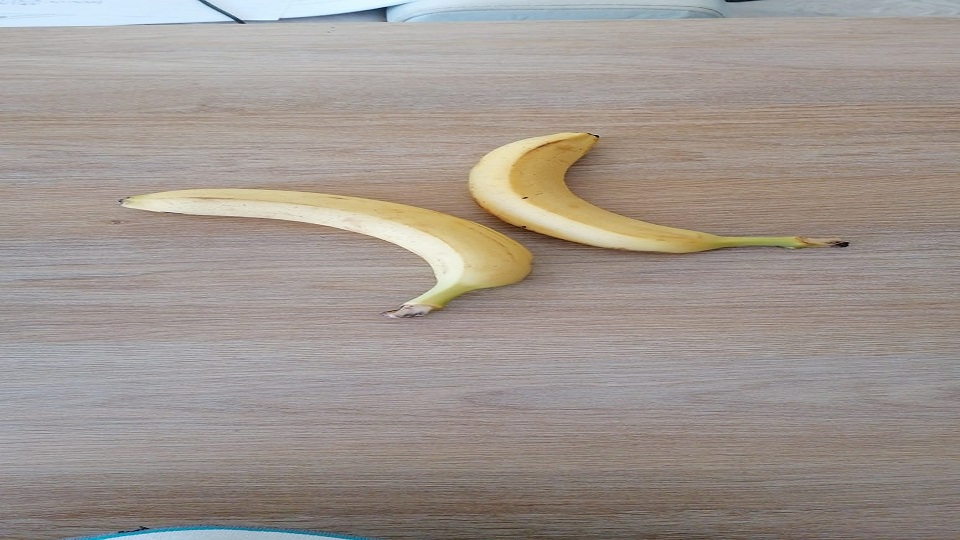muz: (119, 186, 535, 320), (467, 131, 850, 256)
